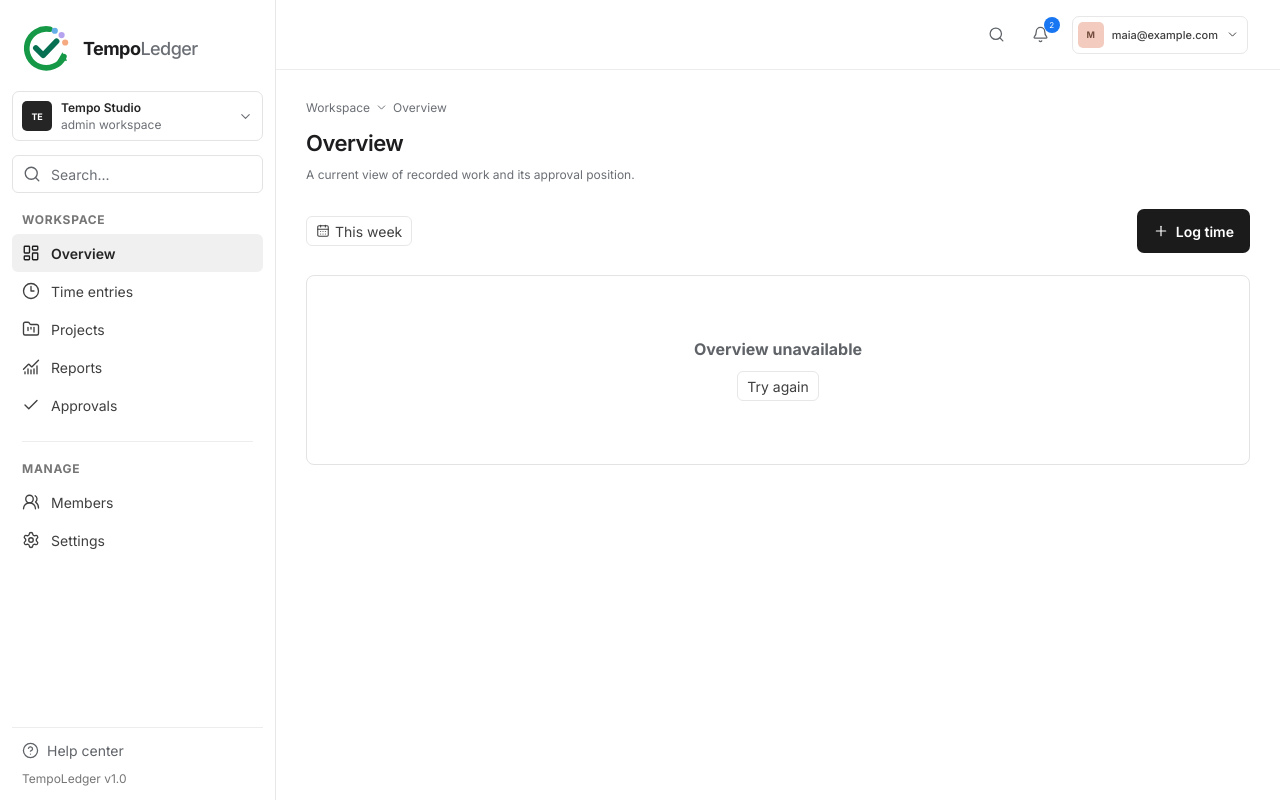
Test: workflow notifications › marks all current notifications read without navigating
Click the button named "Notifications": click(1040, 34) [1026, 20, 1055, 50]
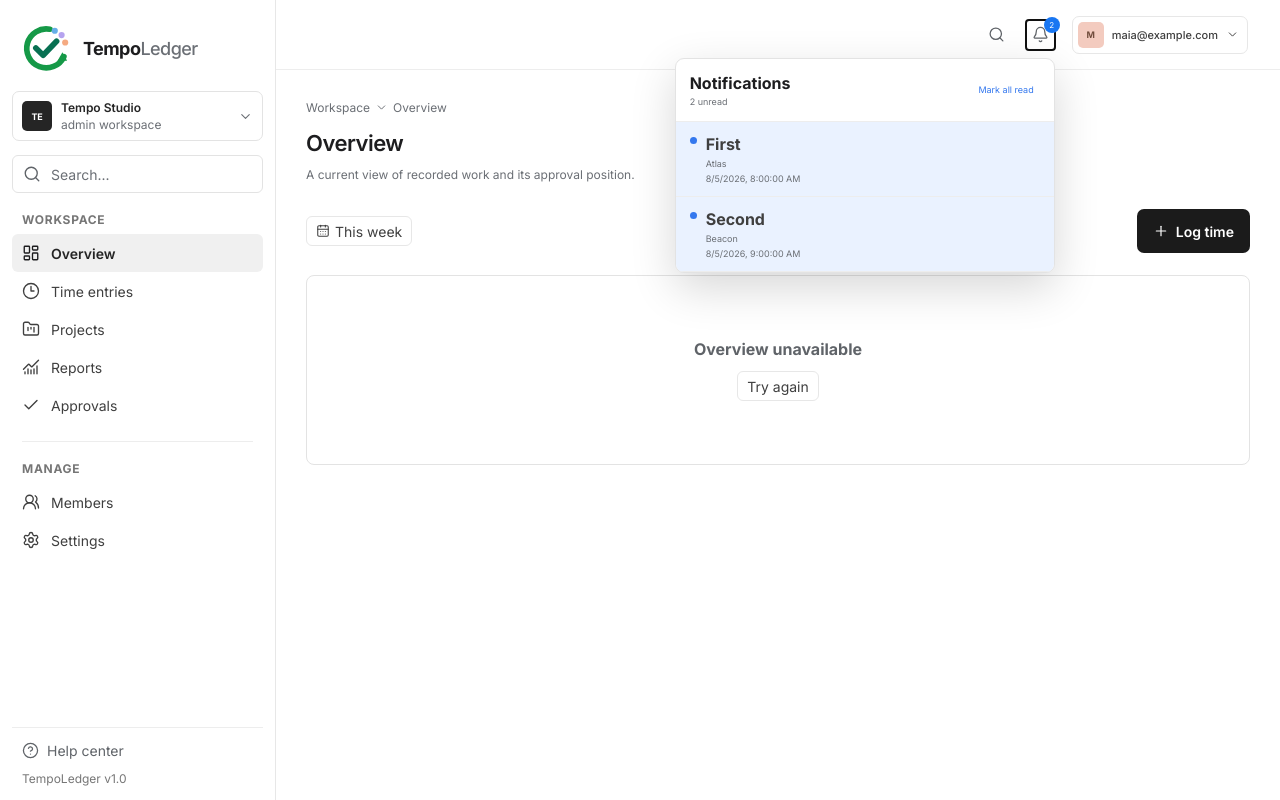
Click the button "Mark all read": click(1006, 90) [972, 72, 1040, 106]
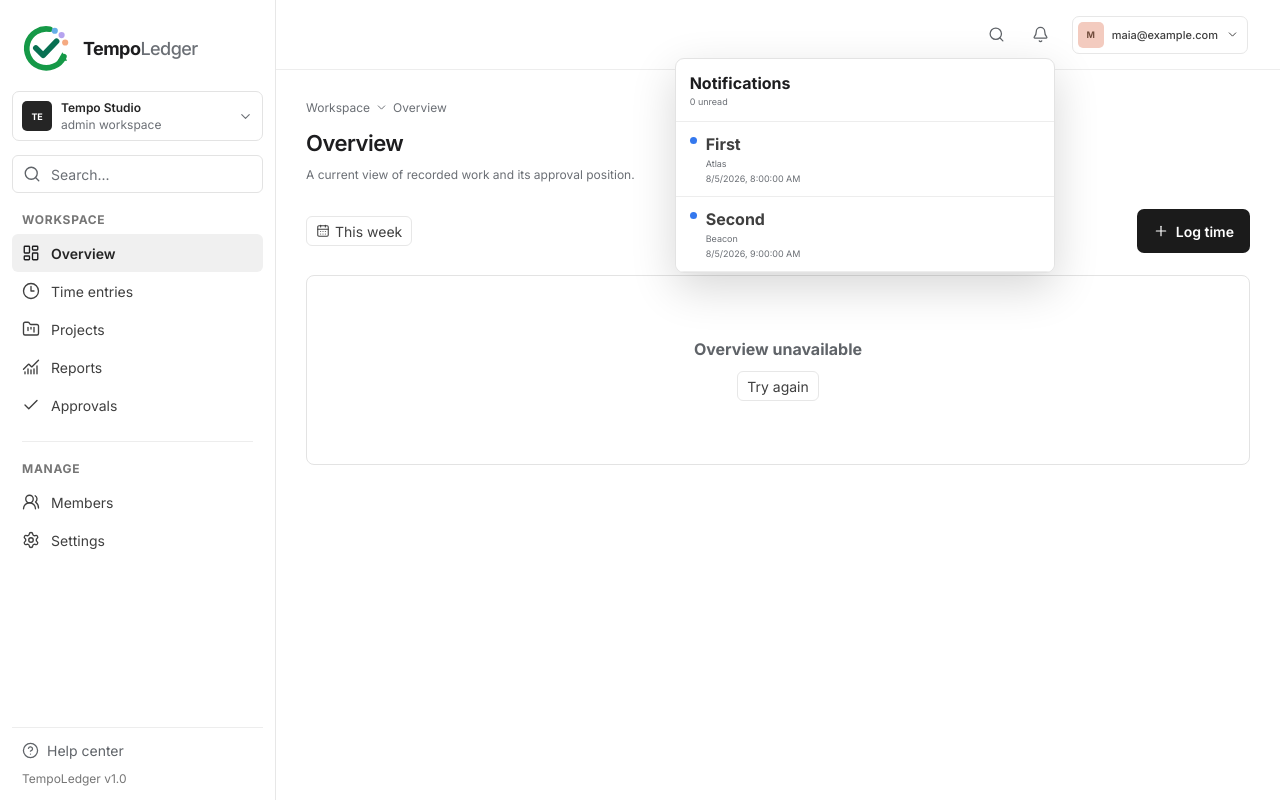
Expected: the text "0 unread" is shown, [690, 96, 728, 106]
